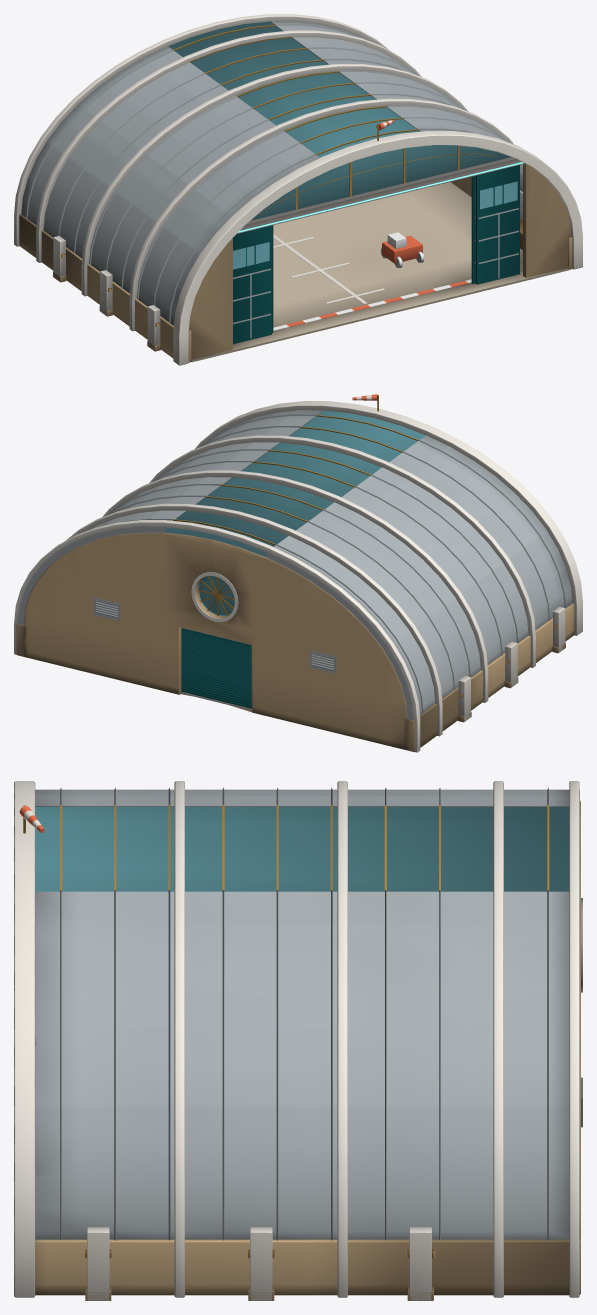
Rendered from bldg_hangar.fbx.
3 views of the same model, one above another, from view 1: azimuth 30°, elevation 25°; view 2: azimuth 150°, elevation 25°; view 3: azimuth 270°, elevation 25° (orthographic). The views are drawn at different scales.
Parts seen in each view (by area): view 1: bldg_hangar; view 2: bldg_hangar; view 3: bldg_hangar.
Boxes of the visible parts, <box> form: bldg_hangar: <box>14,14,582,365</box>; bldg_hangar: <box>14,394,582,752</box>; bldg_hangar: <box>14,781,582,1300</box>.
Bounding box in the file's own units: 22.9 × 10.12 × 16.06.
